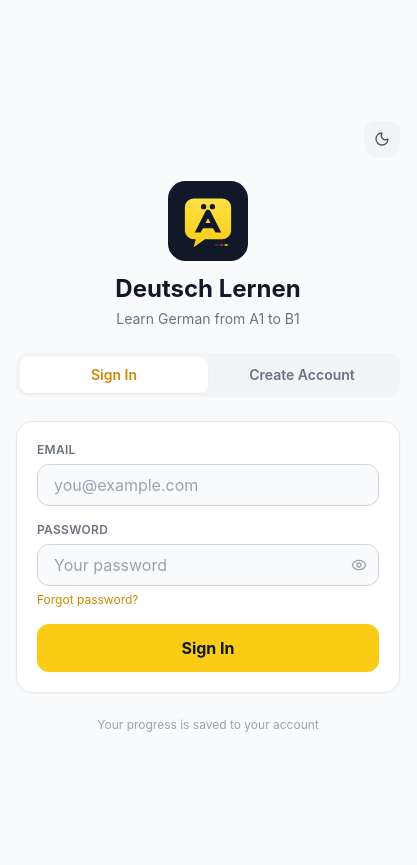
Test: after registering, the user is asked to check their inbox instead of being logged in
Click the button "Create Account".
click(302, 375)  # box left=208, top=357, right=396, bottom=393
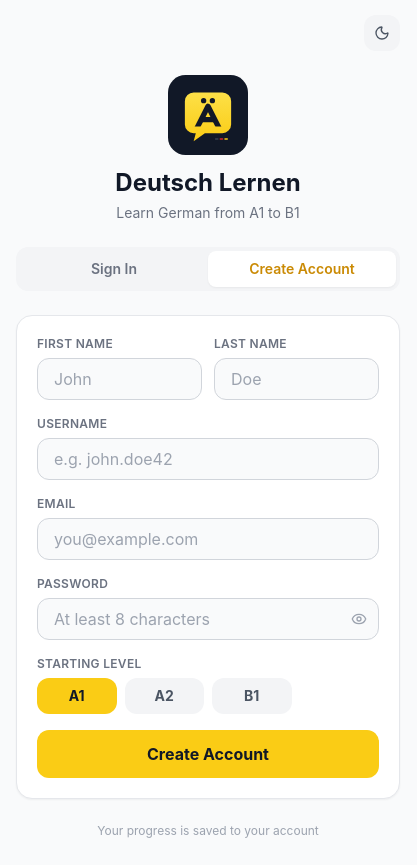
Type "anna" into the field with placeholder "e.g. john.doe42".
click(208, 459); type("anna")  # box left=37, top=438, right=379, bottom=480
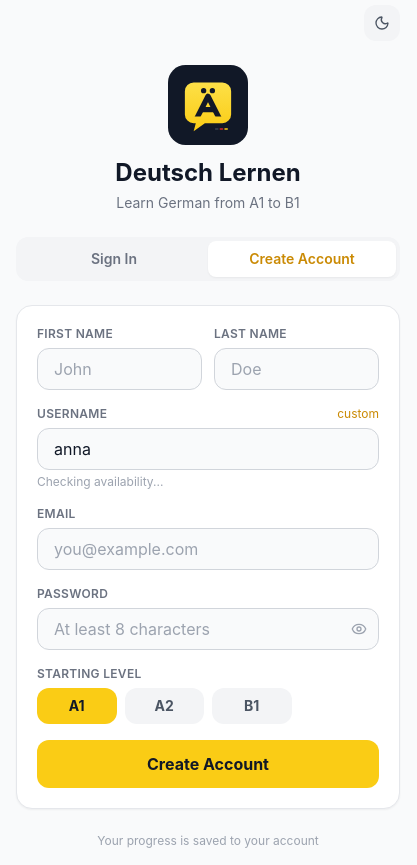
Type "anna@example.com" into the field with placeholder "you@example.com".
click(208, 549); type("anna@example.com")  # box left=37, top=528, right=379, bottom=570
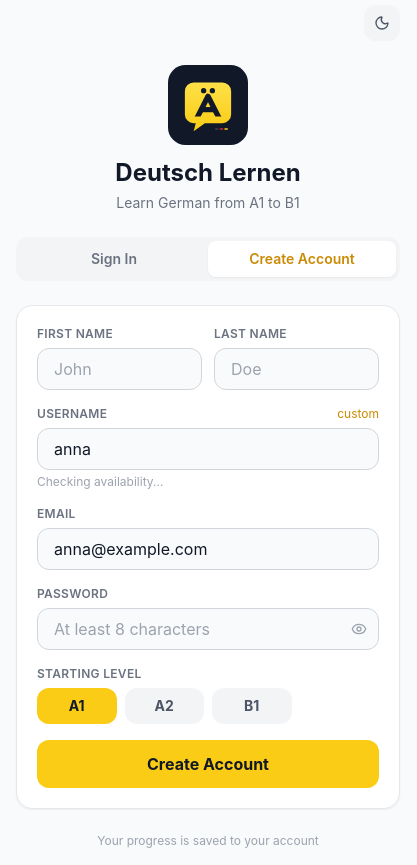
Type "secret123" into the password field with placeholder "At least 8 characters".
click(208, 629); type("secret123")  # box left=37, top=608, right=379, bottom=650
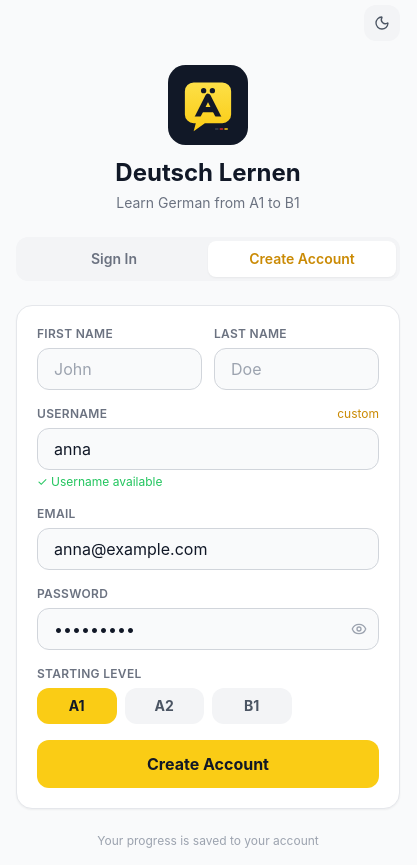
expect the text "✓ Username available" is shown: met, box left=37, top=474, right=162, bottom=489
Click the button "Create Account" below "Starting Level".
click(208, 764)  # box left=37, top=740, right=379, bottom=788
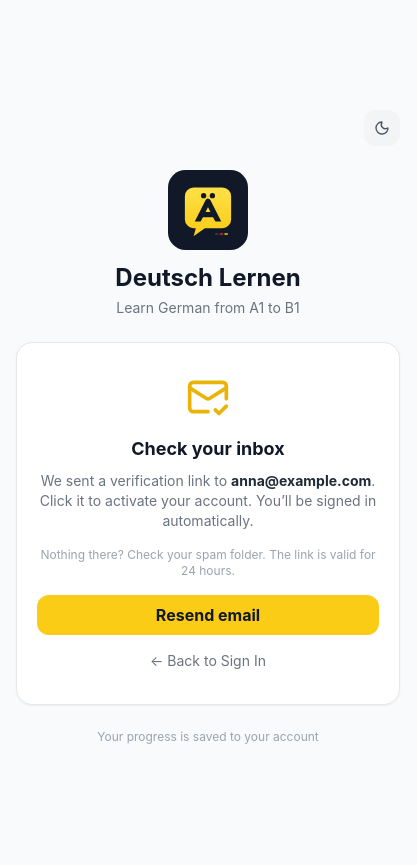
expect the heading "Check your inbox" is shown: met, box left=131, top=438, right=285, bottom=458
expect the text "anna@example.com" is shown: met, box left=231, top=472, right=371, bottom=488
